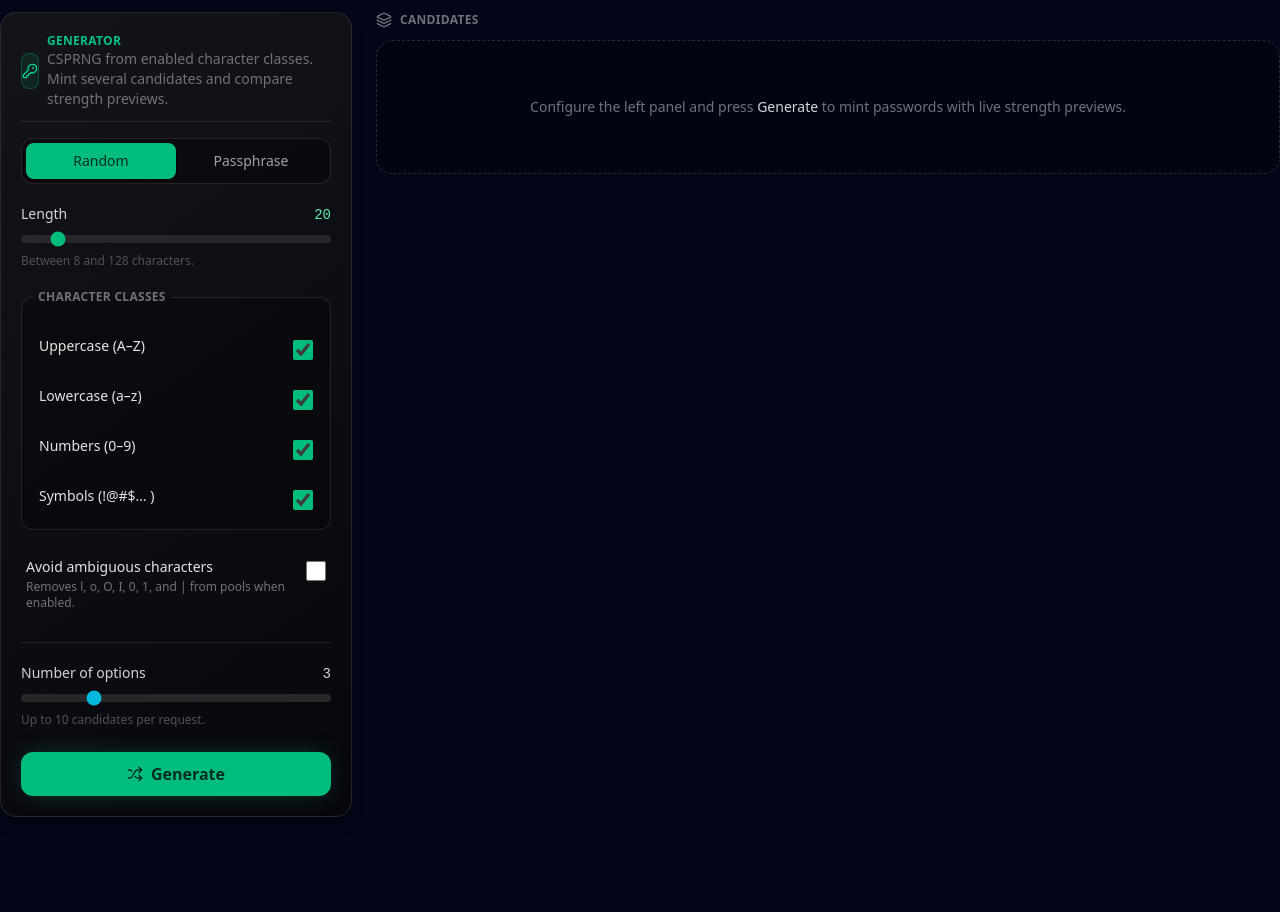
Test: SecurePasswordGenerator › shows generator controls and surfaces API output
This screenshot has width=1280, height=912.
expect the text "Generator" is shown: met, box [47,32,121,49]
Click the button "Generate": (176, 774) [21,752,331,796]
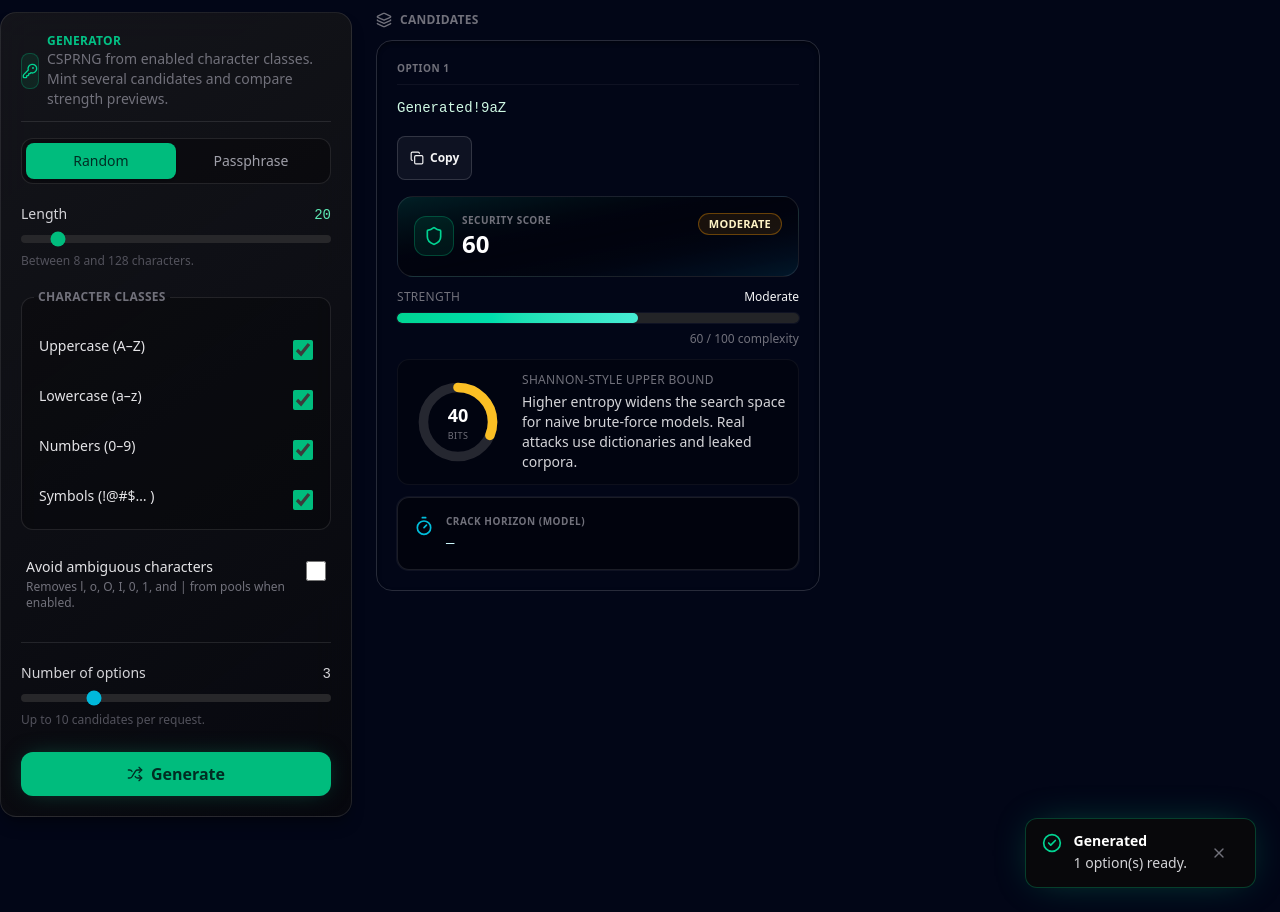
expect the text "Generated!9aZ" is shown: met, box [397,100,506,116]
